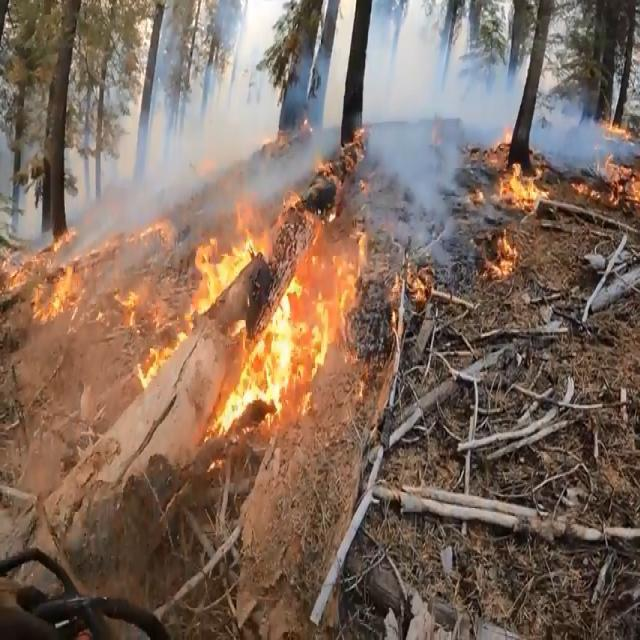Fire: (3, 168, 370, 452), (482, 112, 640, 286)
